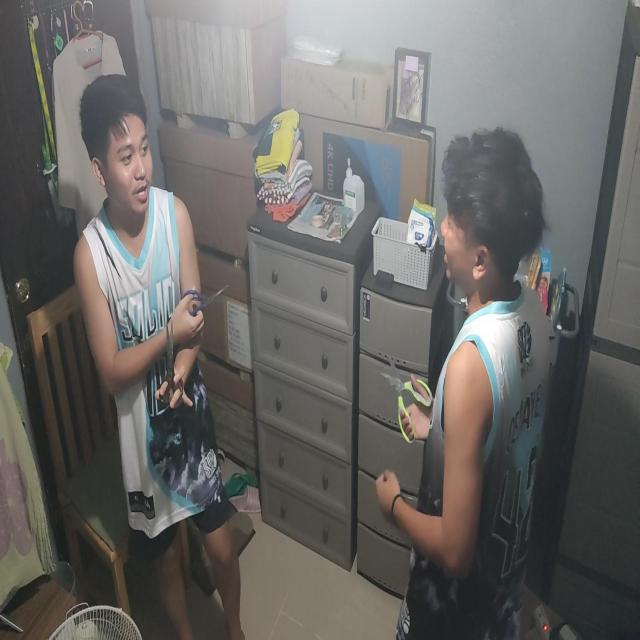scissor: (378, 349, 434, 447), (158, 312, 184, 421), (181, 280, 232, 318)
